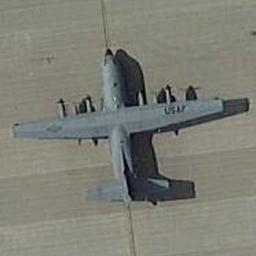Airplane: (8, 42, 230, 210)
